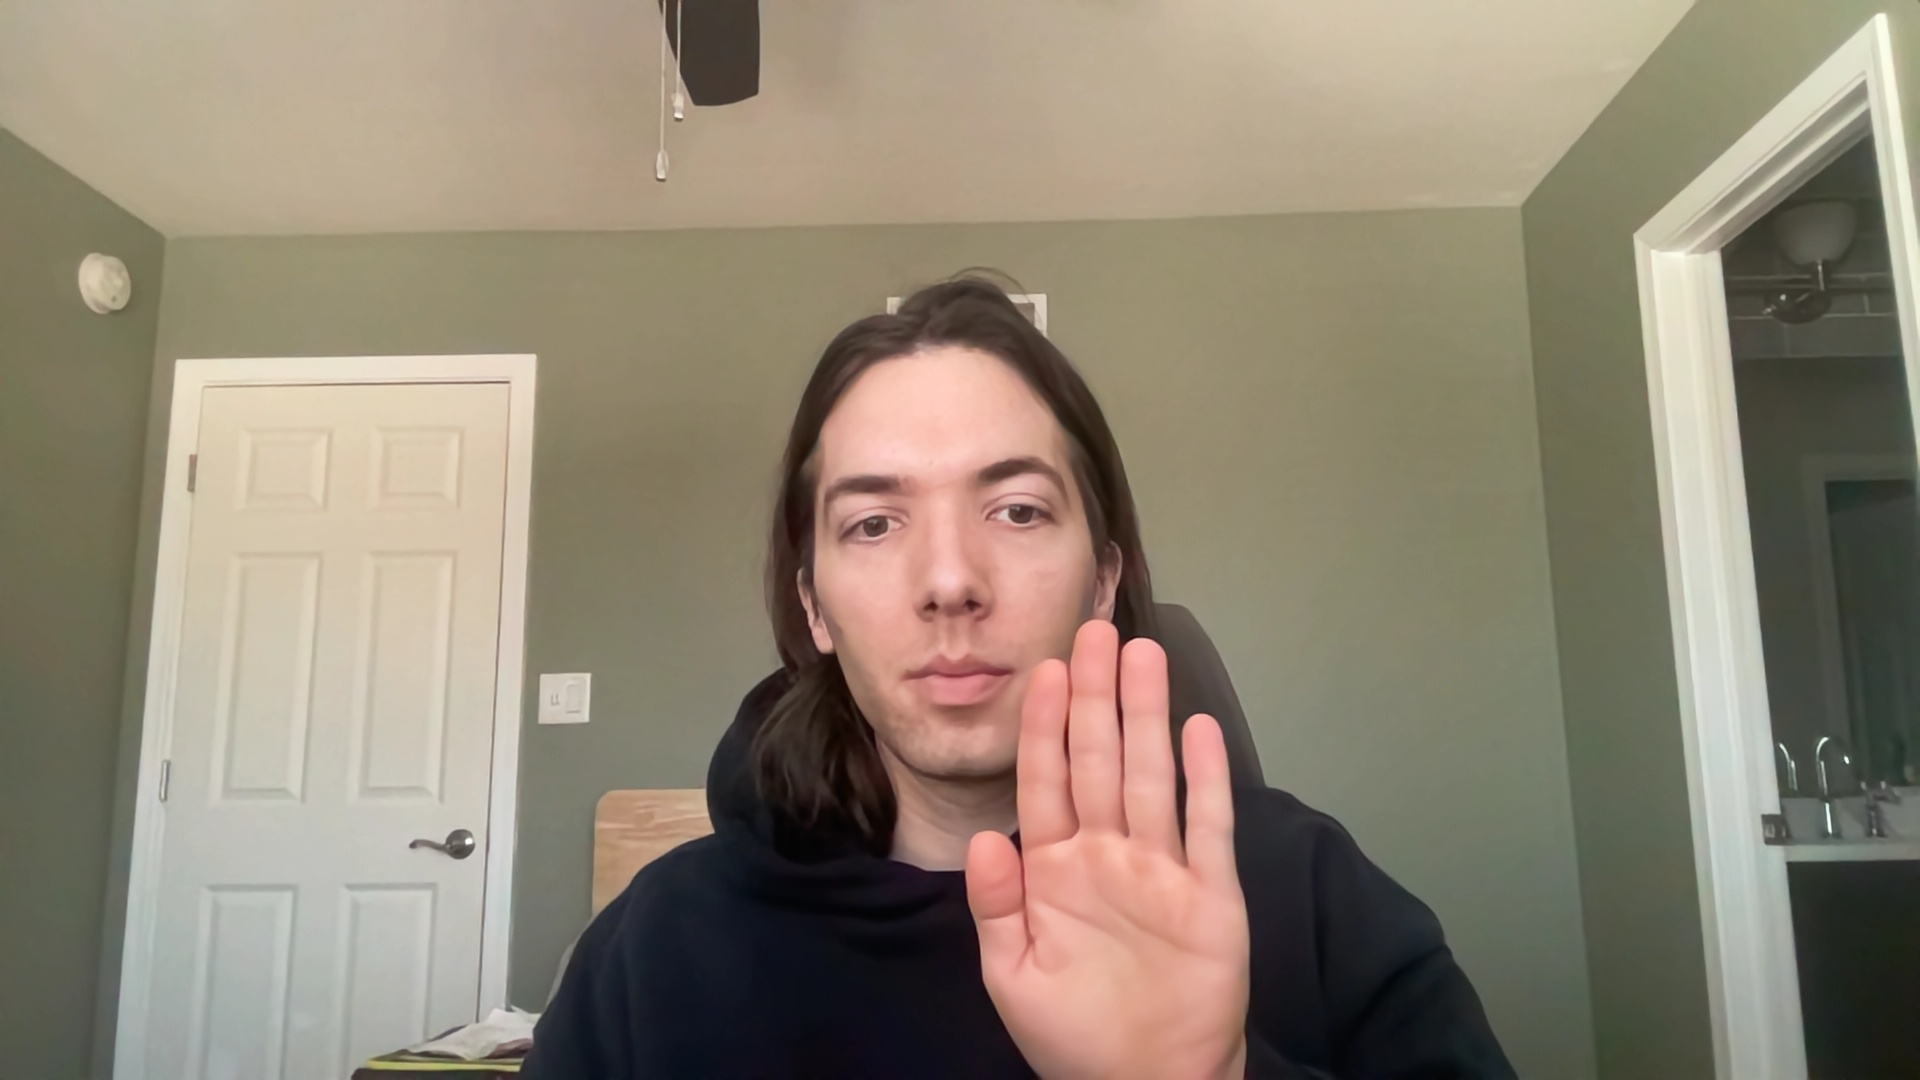Hello: (935, 597, 1276, 1080)
